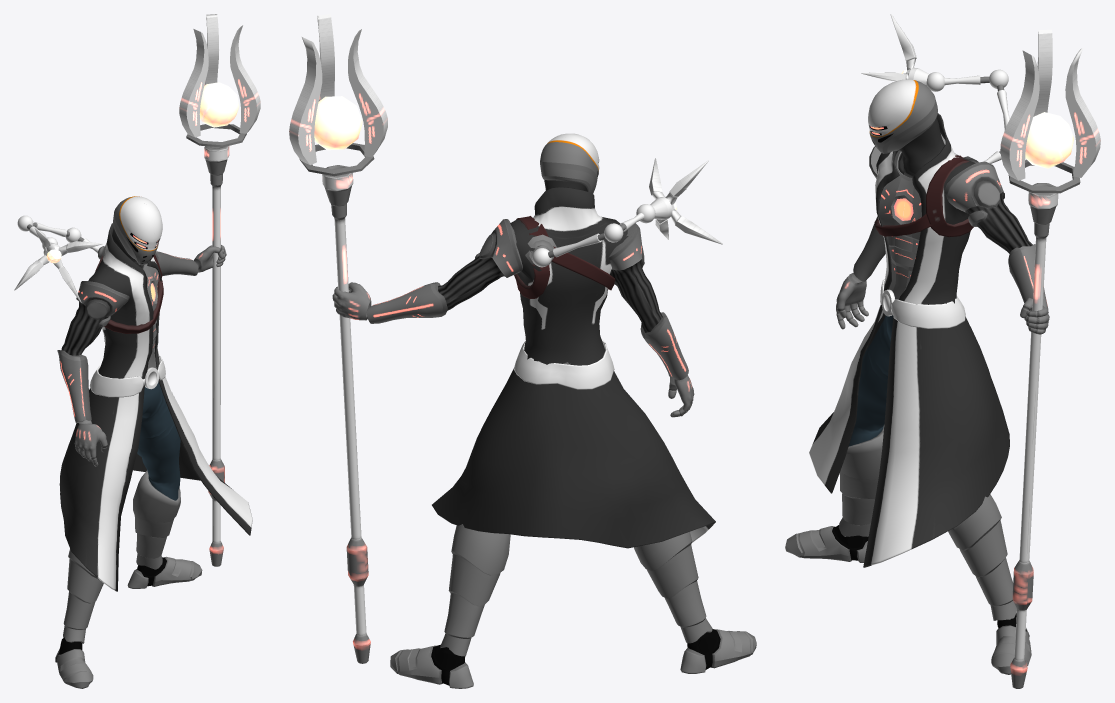
The model's file is Keo502.glb.
3 renders of one model, left to right at view 1: azimuth 30°, elevation 25°; view 2: azimuth 150°, elevation 25°; view 3: azimuth 270°, elevation 25°, orthographic. The views are drawn at different scales.
Parts seen in each view (by area): view 1: cyborg; view 2: cyborg; view 3: cyborg.
Part boxes in pixels (x1,y1,x2,y2): cyborg: (14,14,260,688); cyborg: (289,14,756,688); cyborg: (785,14,1100,688).
Bounding box in the file's own units: 0.9131 × 1.59 × 0.6985.
1 material, 1 textured.
